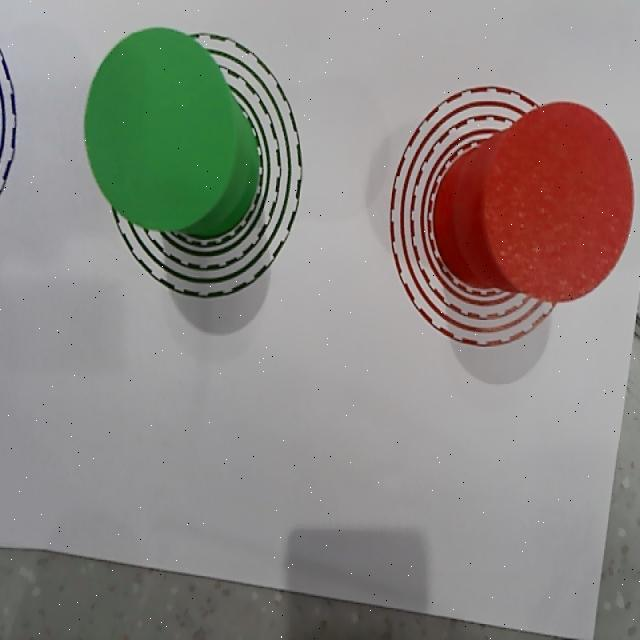g: (85, 26, 235, 231)
r: (484, 100, 633, 300)
